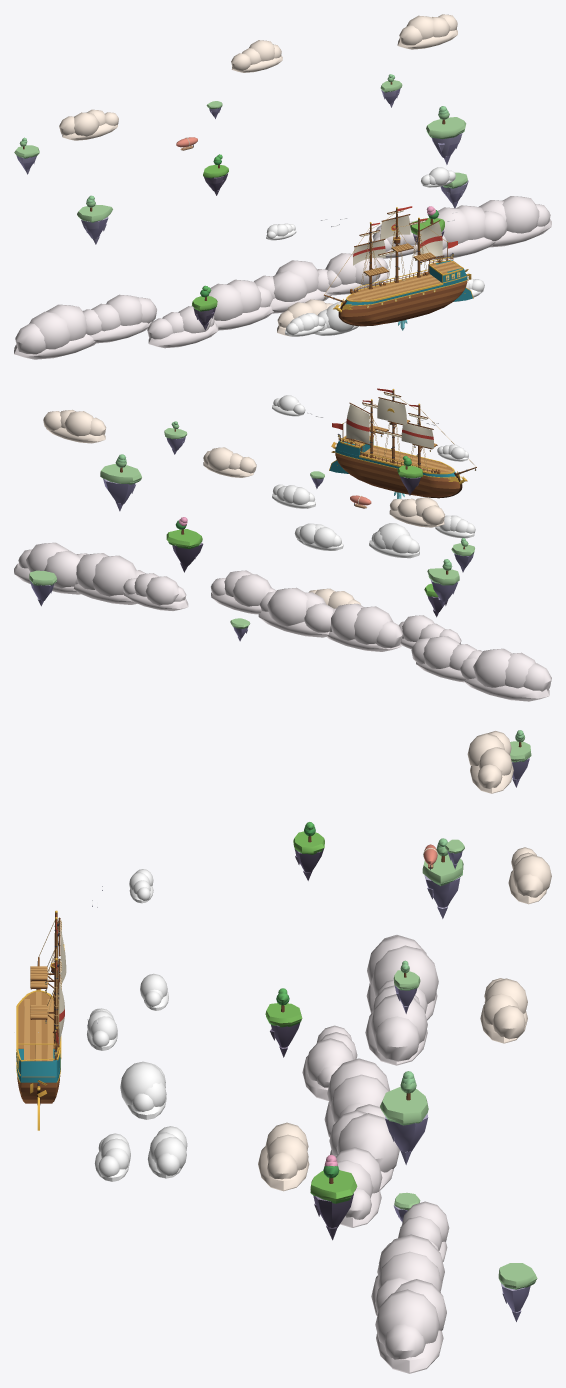
File: SkyShip.fbx
3 views of the same model, one above another, from view 1: azimuth 30°, elevation 25°; view 2: azimuth 150°, elevation 25°; view 3: azimuth 270°, elevation 25° (orthographic). The views are drawn at different scales.
Visible parts, largest first — view 1: SceneryClouds, SceneryFar, Stage, SceneryNear, Sails, Rigging, StageTrim, Platforms; view 2: SceneryClouds, SceneryFar, SceneryNear, Stage, Sails, Rigging, StageTrim; view 3: SceneryClouds, SceneryFar, SceneryNear, Stage, Rigging, StageTrim.
Part boxes in pixels (x1=…): SceneryClouds: x1=14, y1=14, x2=551, y2=359; SceneryFar: x1=14, y1=74, x2=468, y2=330; Stage: x1=340, y1=260, x2=467, y2=325; SceneryNear: x1=266, y1=167, x2=484, y2=336; Sails: x1=353, y1=206, x2=442, y2=265; Rigging: x1=324, y1=207, x2=457, y2=302; StageTrim: x1=333, y1=260, x2=473, y2=326; Platforms: x1=363, y1=243, x2=435, y2=276; SceneryClouds: x1=14, y1=409, x2=551, y2=701; SceneryFar: x1=29, y1=421, x2=474, y2=641; SceneryNear: x1=272, y1=395, x2=475, y2=558; Stage: x1=335, y1=436, x2=460, y2=497; Sails: x1=346, y1=388, x2=433, y2=448; Rigging: x1=332, y1=389, x2=476, y2=474; StageTrim: x1=329, y1=436, x2=467, y2=498; SceneryClouds: x1=258, y1=731, x2=551, y2=1373; SceneryFar: x1=265, y1=730, x2=537, y2=1321; SceneryNear: x1=87, y1=869, x2=187, y2=1181; Stage: x1=16, y1=991, x2=60, y2=1103; Rigging: x1=37, y1=910, x2=60, y2=1059; StageTrim: x1=16, y1=989, x2=61, y2=1130.
Size of the model in its own units: 392 by 161 by 220.
1 material, 1 textured.
